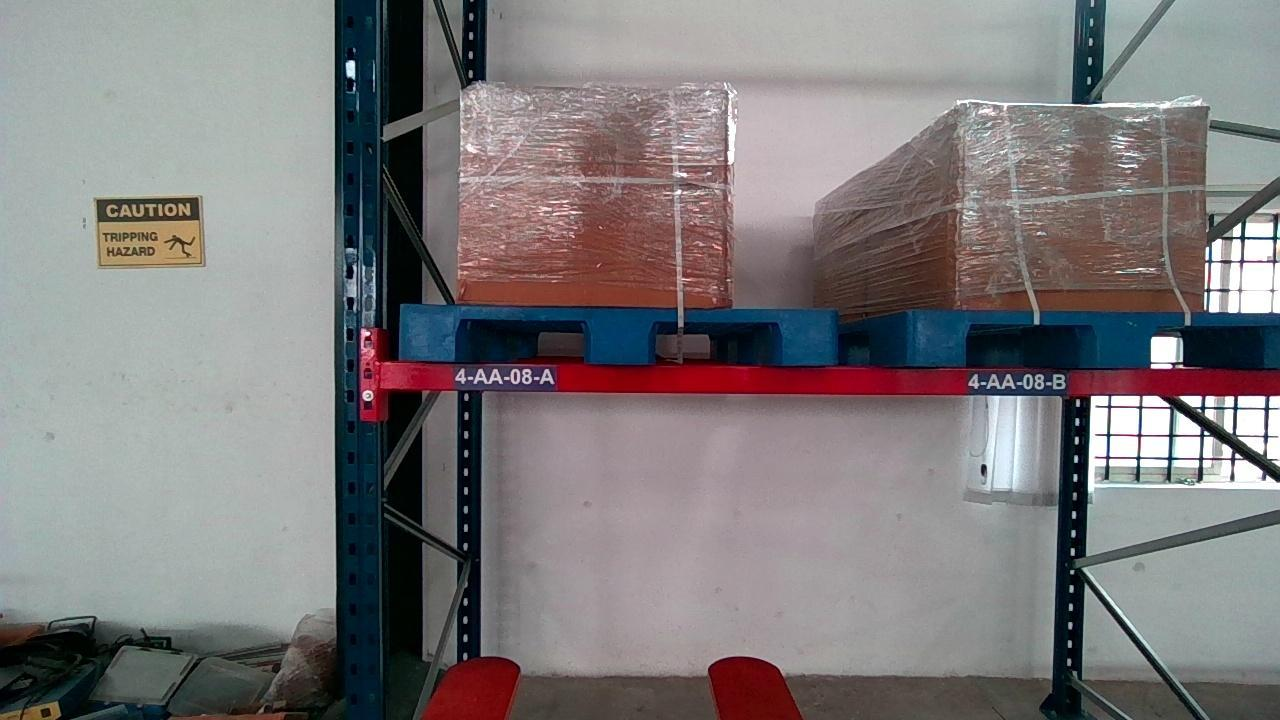h_rack: (375, 362, 1280, 395)
small_pallet: (400, 304, 838, 366), (909, 308, 1280, 366)
